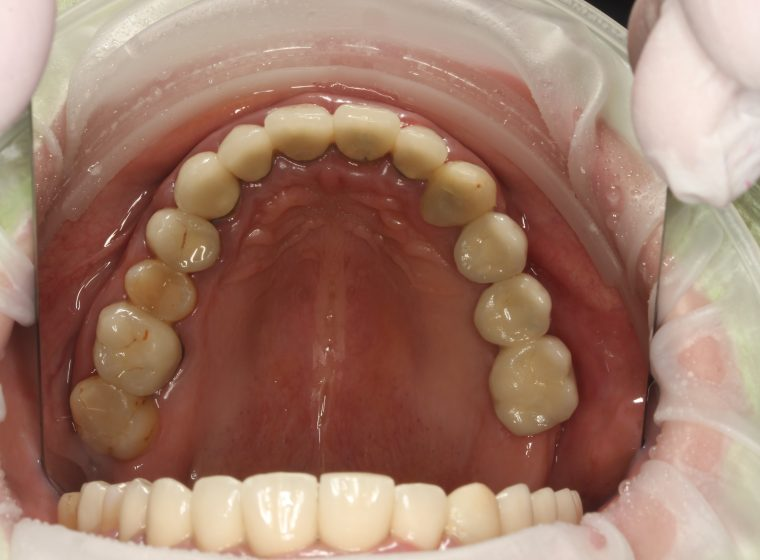UL1BC_healthy: (453, 215, 525, 283)
UL1M_healthy: (489, 337, 574, 440)
UL2BC_healthy: (470, 277, 550, 349)
ULCI_healthy: (333, 104, 397, 163)
ULC_healthy: (417, 165, 494, 229)
ULLI_healthy: (386, 127, 448, 177)
UR1BC_decay: (147, 206, 216, 282)
UR1M_decay: (95, 303, 186, 399)
UR2BC_healthy: (126, 258, 198, 326)
UR2M_decay: (71, 377, 169, 459)
URCI_healthy: (274, 104, 336, 164)
URC_healthy: (179, 154, 236, 222)
URLI_healthy: (225, 119, 270, 185)
